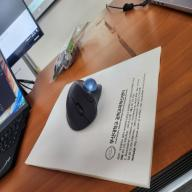Mouse: (65, 78, 103, 131)
